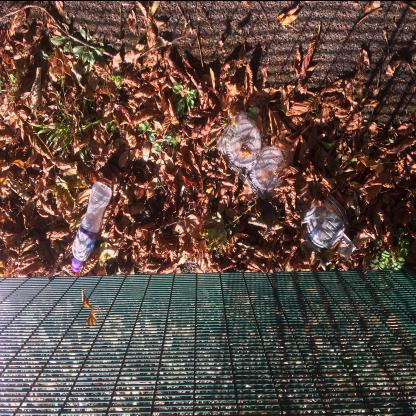plastik: (217, 112, 291, 202), (72, 181, 114, 272), (293, 187, 350, 253)
